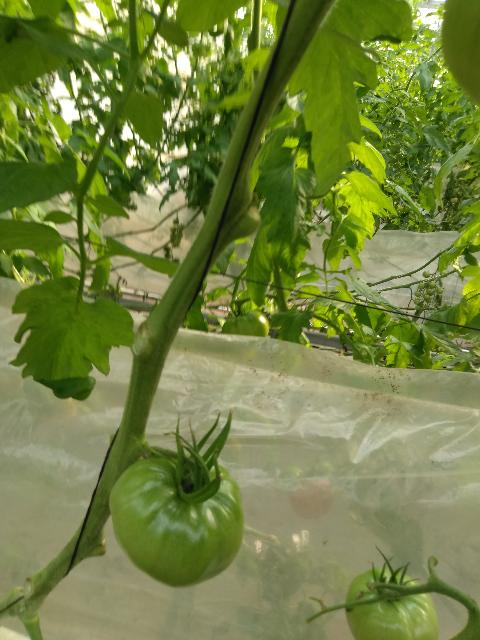b_green: (109, 453, 244, 588), (346, 566, 439, 640), (221, 310, 270, 337)
